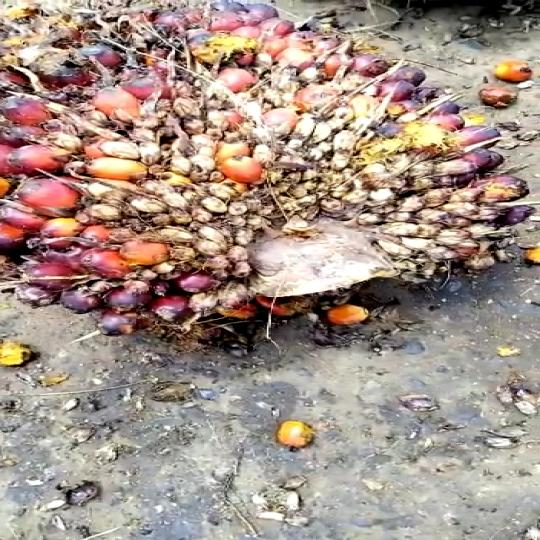masak: (0, 0, 540, 345)
